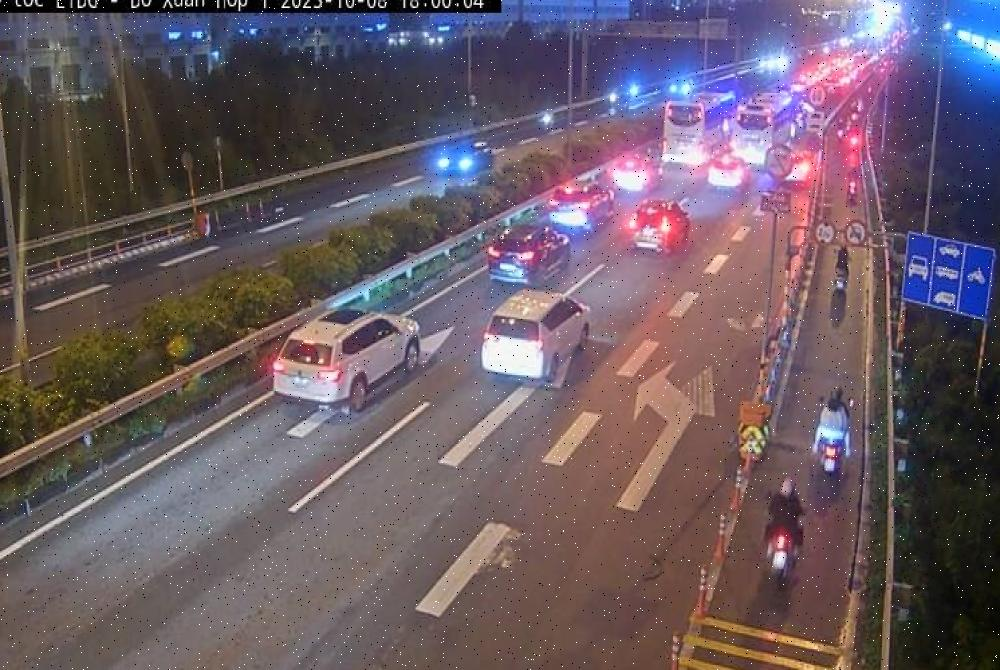car: (274, 309, 418, 411), (484, 286, 595, 383), (491, 221, 569, 282)
